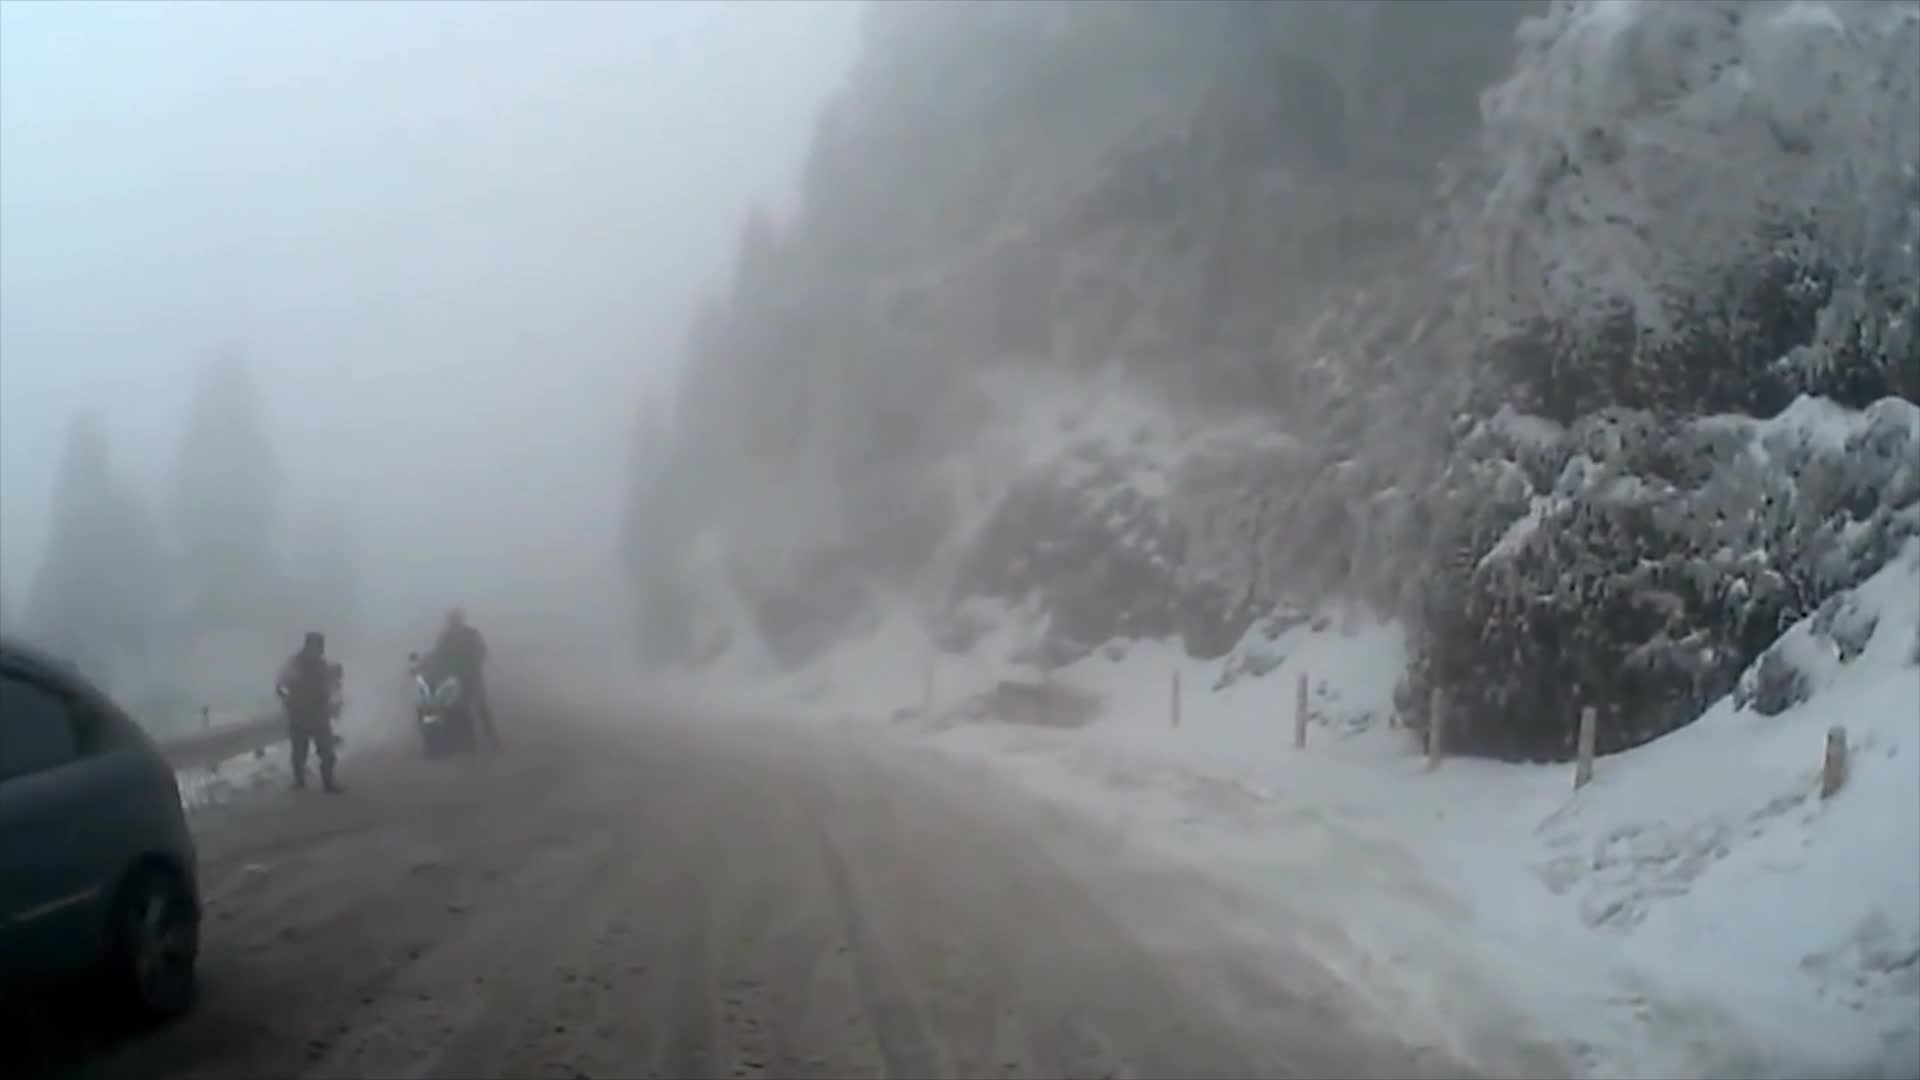pedestrian: (277, 631, 350, 794), (425, 601, 503, 751)
vehicle: (0, 631, 205, 1080)
